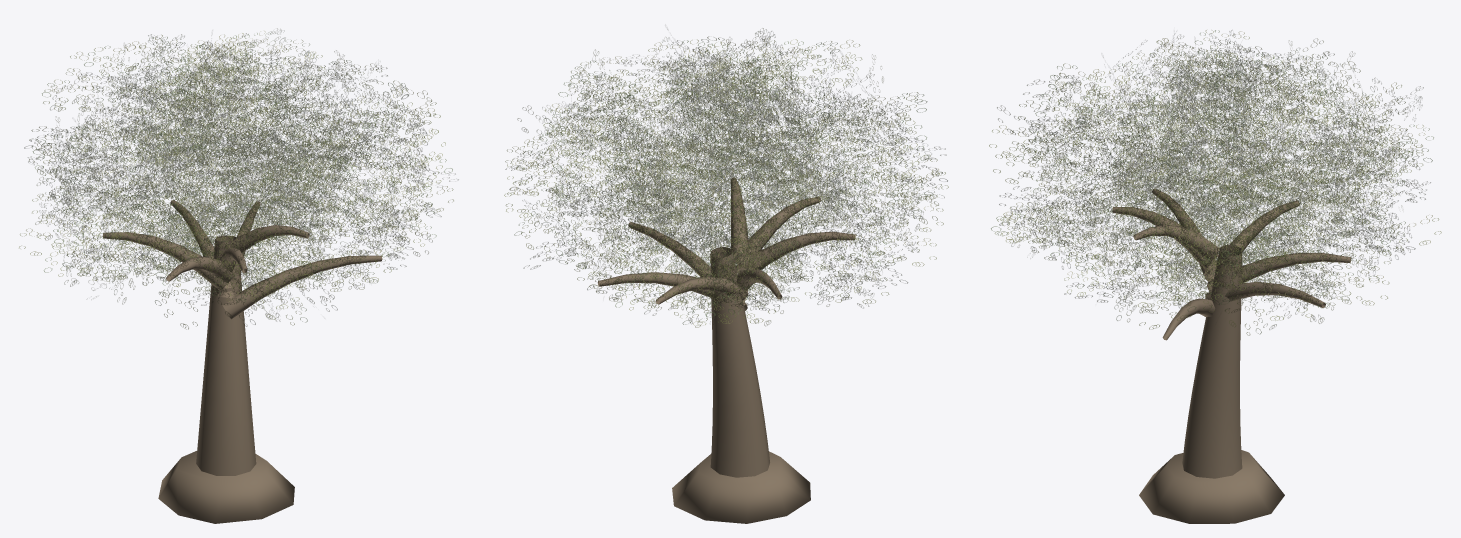
File: tree2_camphor.glb
3 renders of one model, left to right at view 1: azimuth 30°, elevation 25°; view 2: azimuth 150°, elevation 25°; view 3: azimuth 270°, elevation 25°, orthographic. The views are drawn at different scales.
Visible parts, largest first — view 1: cards, body; view 2: cards, body; view 3: cards, body.
Boxes of the visible parts, <box> form: cards: <box>19,28,458,329</box>; body: <box>103,200,382,523</box>; cards: <box>504,28,948,327</box>; body: <box>597,177,855,523</box>; cards: <box>989,30,1441,335</box>; body: <box>1112,188,1351,523</box>.
Size of the model in its own units: 7.1 by 7.76 by 7.09.
2 materials, 1 textured.
